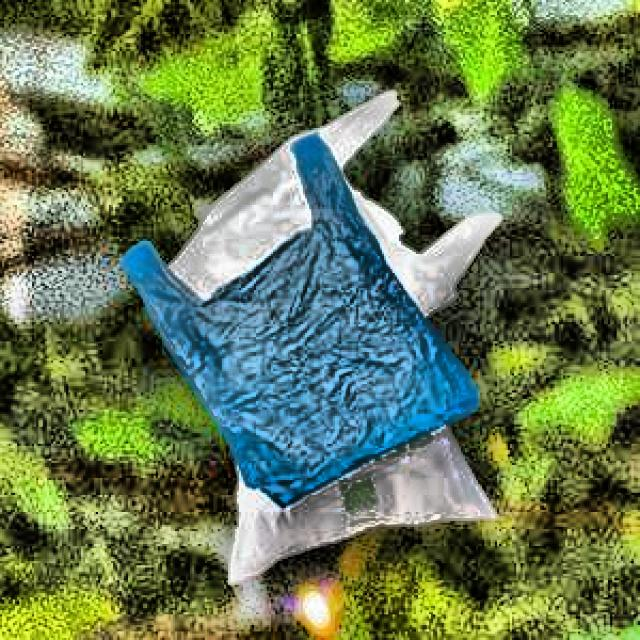Plastic: (116, 128, 483, 500), (168, 87, 503, 410), (179, 296, 518, 596)
